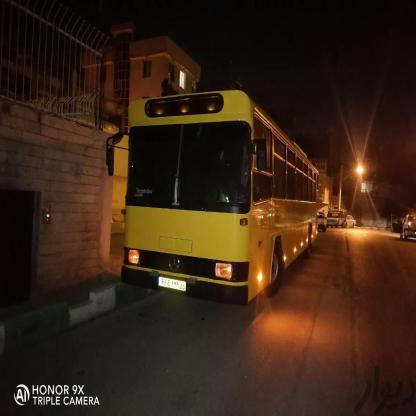Bus: (119, 97, 317, 290)
Car: (400, 214, 416, 243), (328, 211, 349, 226)
